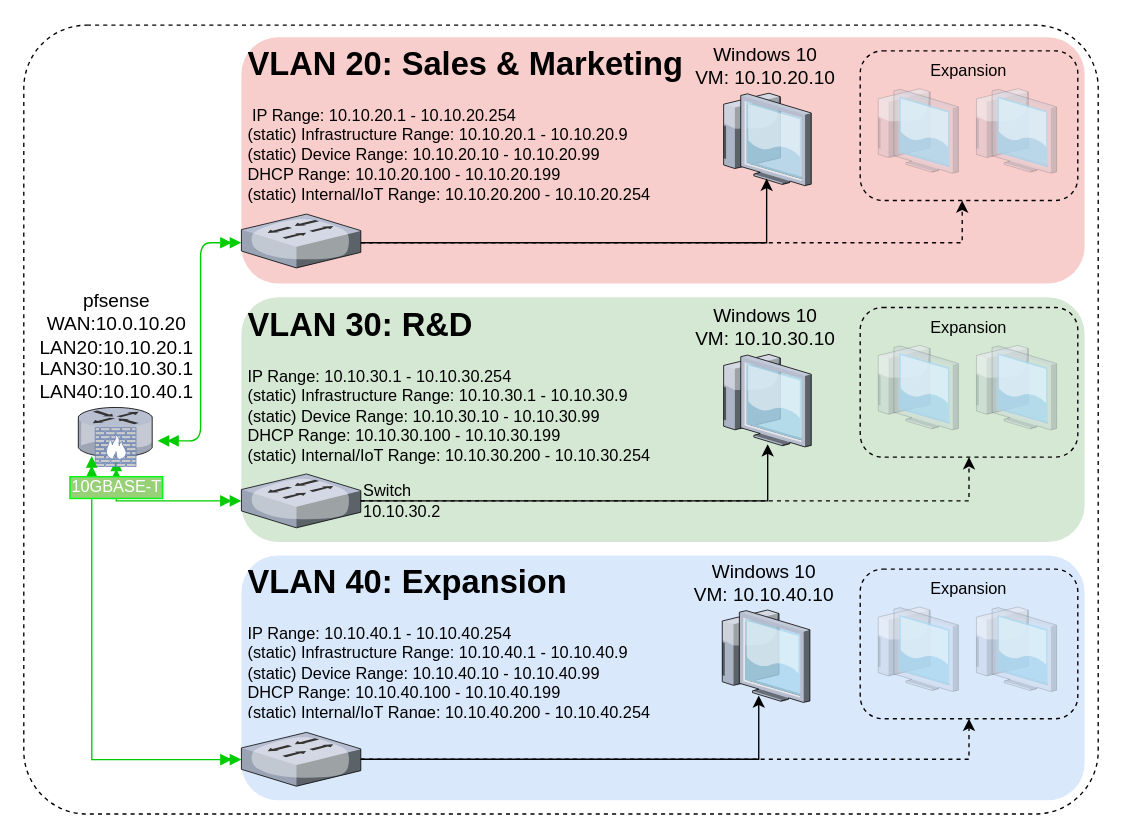
Some shapes in this 1122 by 838 pixel diagram are drawn without their labels. Here are the shapes that lost their labels. From the top down, the centre of each, then its label:
the point at 300,240: Switch 10.10.20.2
the point at 300,759: Switch 10.10.40.2
